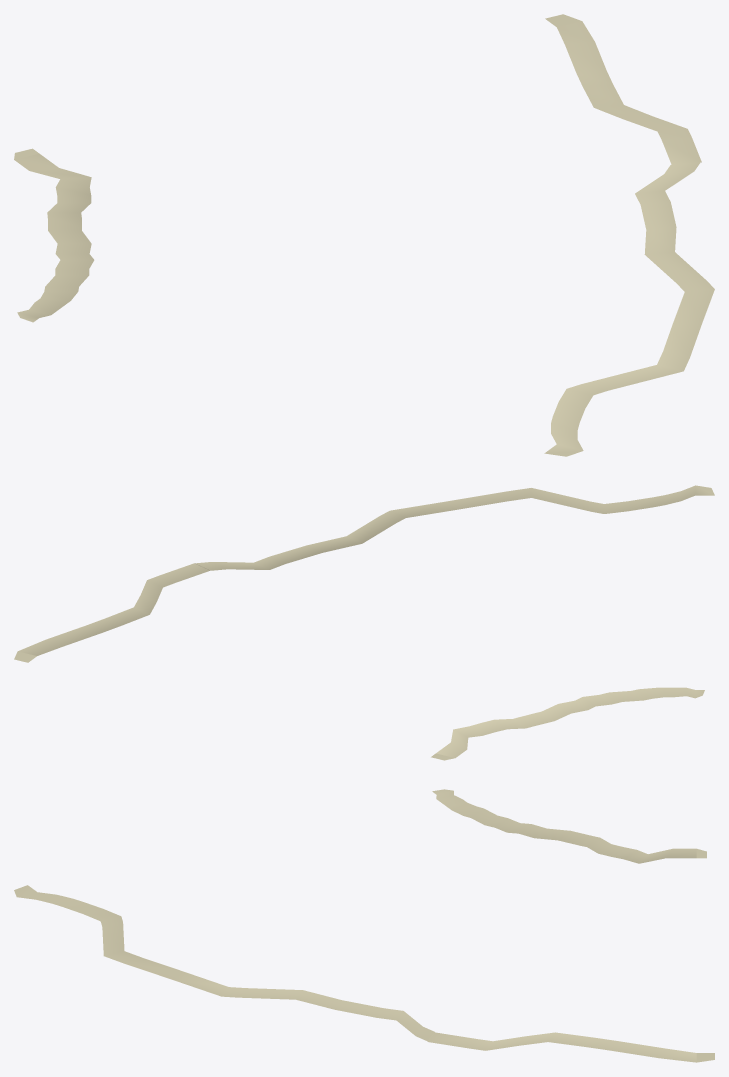
Rendered from foam_3_60.fbx.
3 renders of one model, top to bottom at view 1: azimuth 30°, elevation 25°; view 2: azimuth 150°, elevation 25°; view 3: azimuth 270°, elevation 25°, orthographic. The views are drawn at different scales.
Parts seen in each view (by area): view 1: foam_2, foam_1; view 2: foam_2, foam_1; view 3: foam_2, foam_1.
Part boxes in pixels (x1,y1,x2,y2): foam_2: (544, 14, 714, 456); foam_1: (14, 148, 94, 322); foam_2: (14, 485, 714, 662); foam_1: (431, 687, 704, 760); foam_2: (14, 885, 714, 1062); foam_1: (432, 789, 706, 863).
Bounding box in the file's own units: 42.64 × 0.0138 × 46.23.
